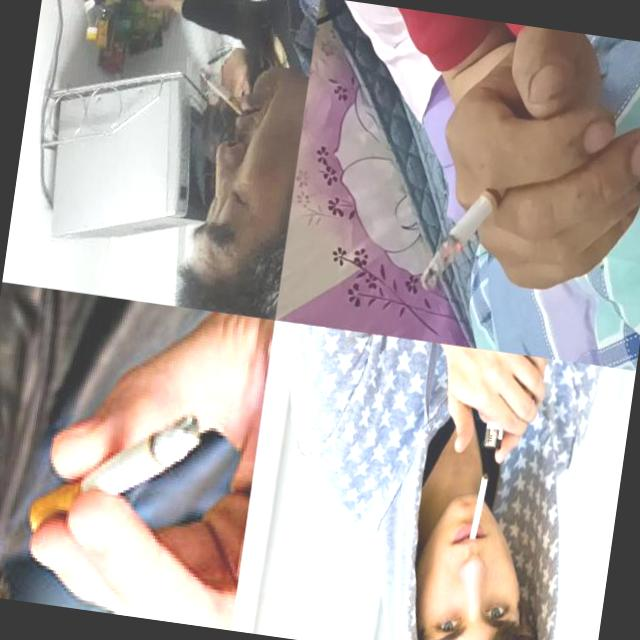smoke: (417, 23, 640, 322), (16, 390, 262, 630), (194, 68, 249, 117), (469, 472, 488, 542)
